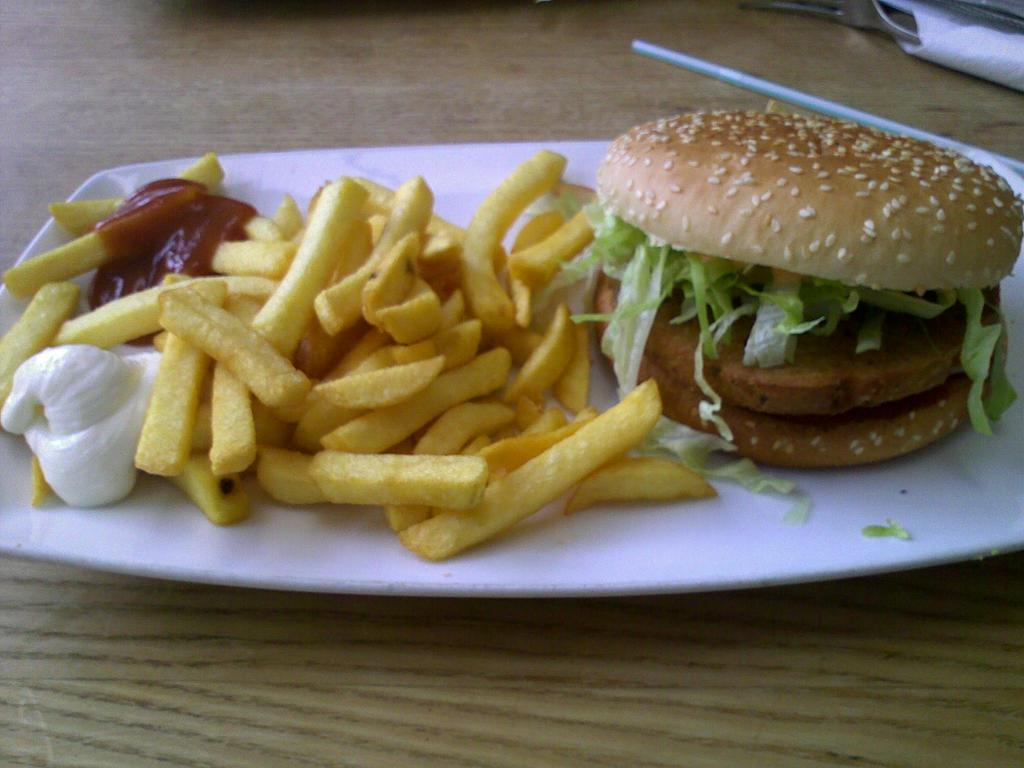French fries: (32, 152, 705, 553)
